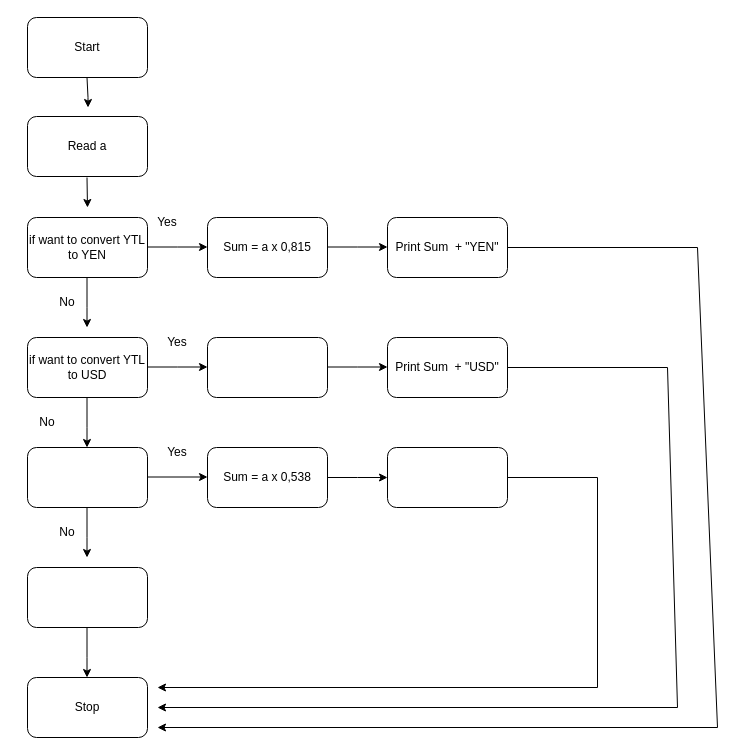
Image size: 743x755. Some labels were removed from this diagram. Here are the shapes that lost their labels. From the top down, the centre of each, then its label:
(x=267, y=367): Sum = a x 0,692
(x=87, y=477): if want to convert YTL to EURO
(x=447, y=477): Print Sum + "EURO"
(x=87, y=597): Print "Sorry, We cannot anything for you"
